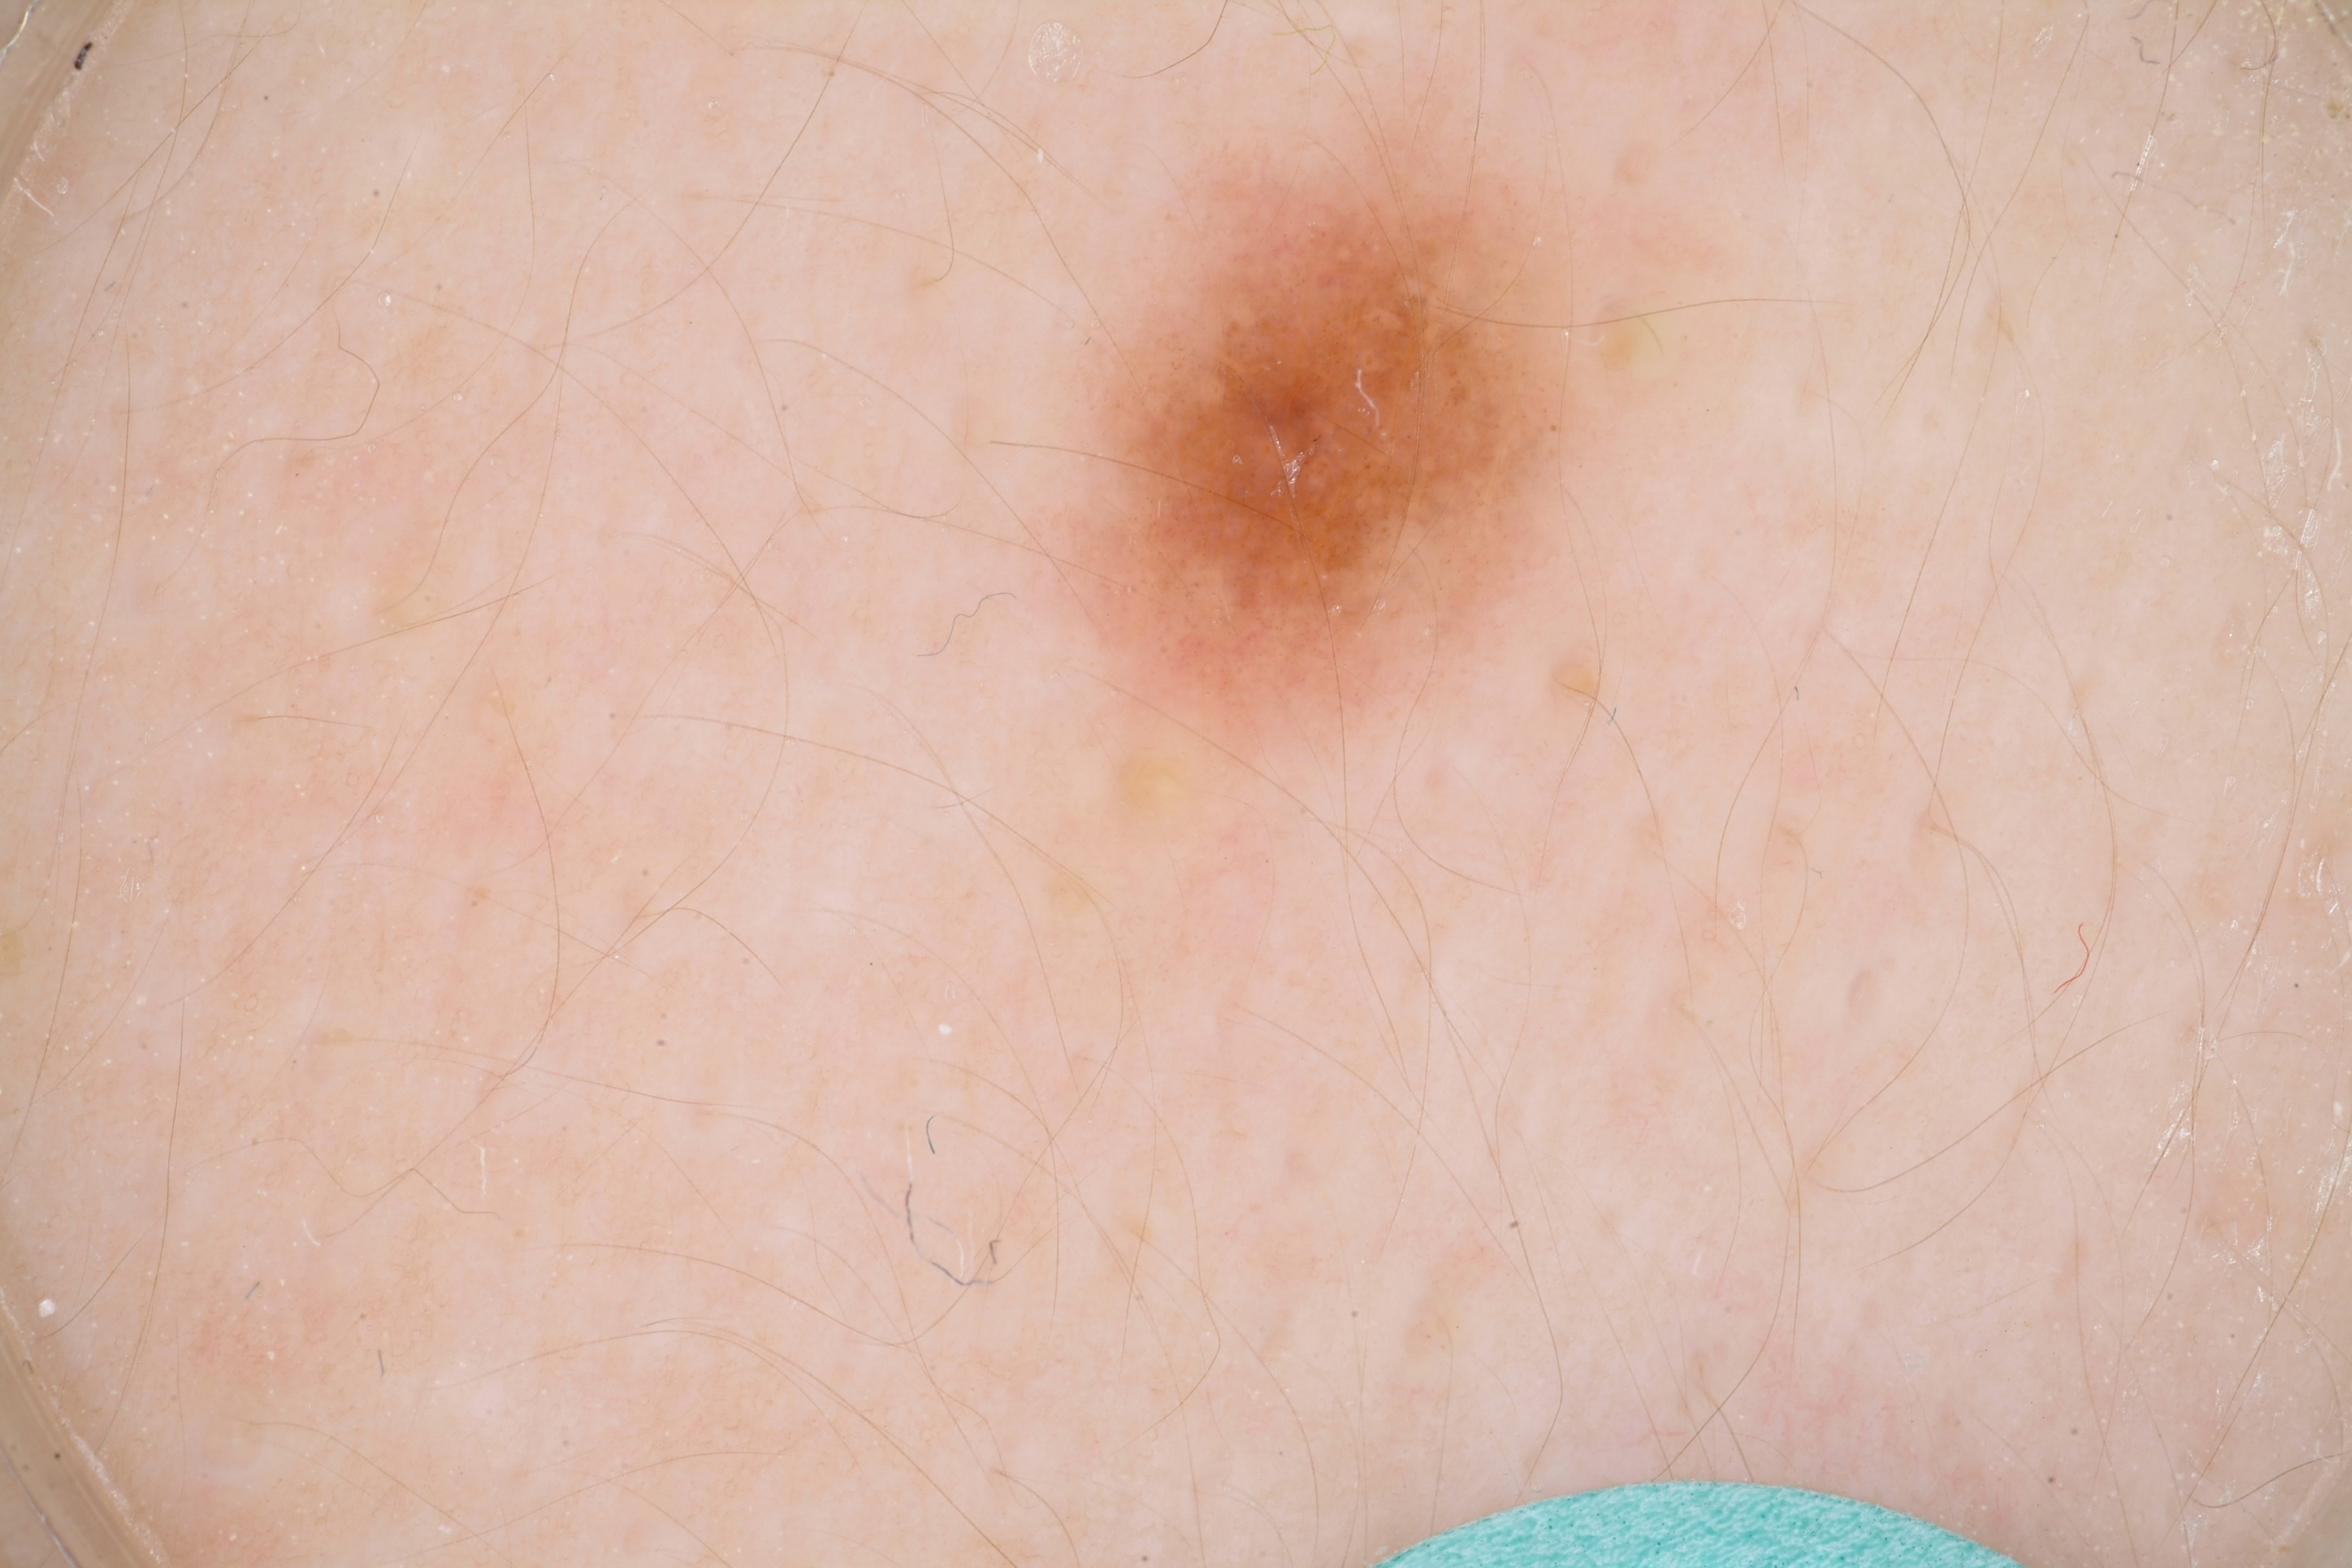Detected Lesion: (1092, 152, 1564, 707)
